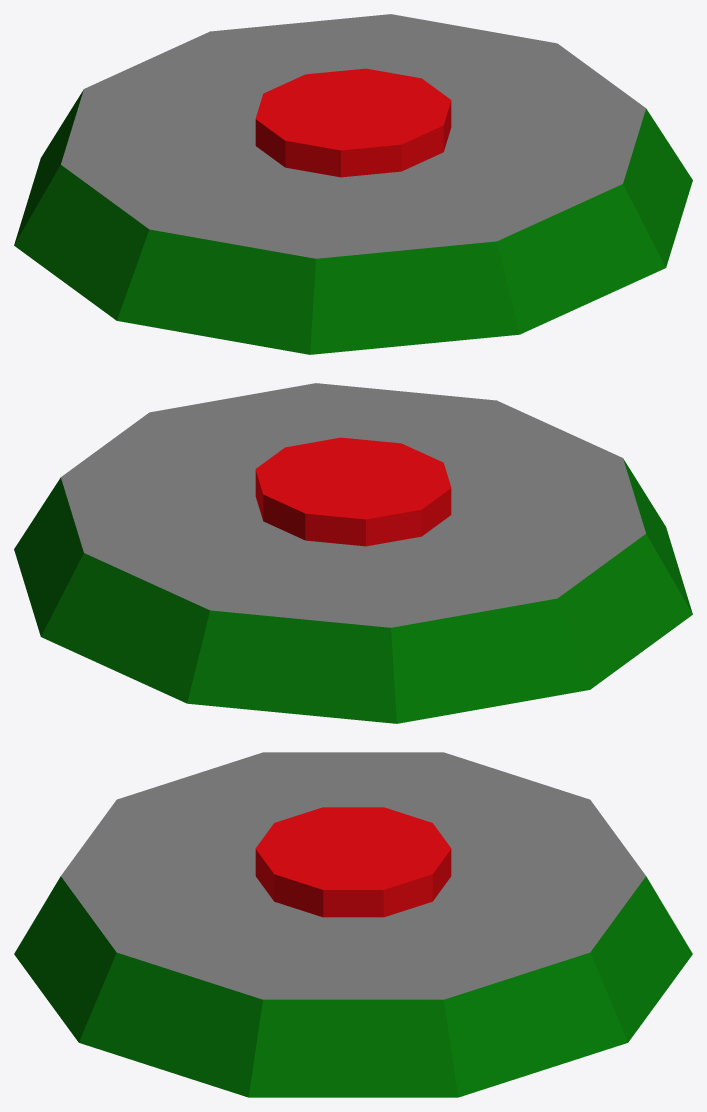
File: мина.fbx
3 views of the same model, one above another, from view 1: azimuth 30°, elevation 25°; view 2: azimuth 150°, elevation 25°; view 3: azimuth 270°, elevation 25° (orthographic). The views are drawn at different scales.
Parts seen in each view (by area): view 1: Цилиндр, Цилиндр.001; view 2: Цилиндр, Цилиндр.001; view 3: Цилиндр, Цилиндр.001.
Part boxes in pixels (left/top/right/bottom): Цилиндр: left=14, top=14, right=692, bottom=354; Цилиндр.001: left=255, top=68, right=451, bottom=177; Цилиндр: left=14, top=383, right=692, bottom=723; Цилиндр.001: left=255, top=437, right=451, bottom=546; Цилиндр: left=14, top=752, right=692, bottom=1097; Цилиндр.001: left=255, top=807, right=451, bottom=917.
Size of the model in its own units: 100 by 17.15 by 100.
